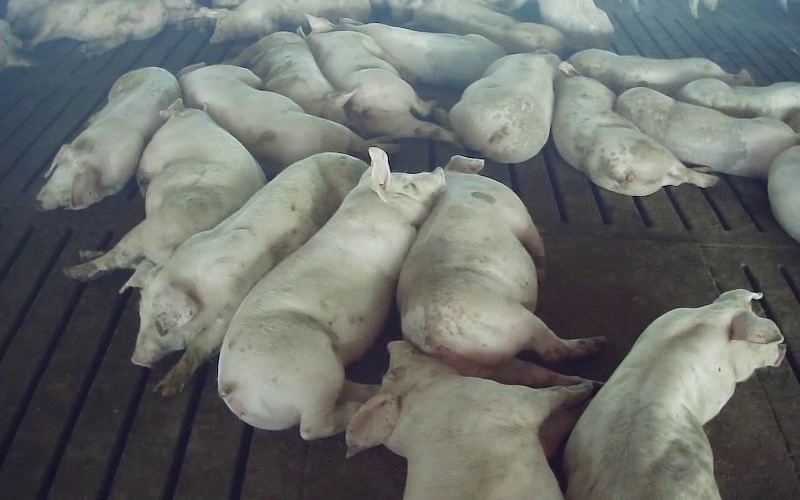pig: (218, 148, 444, 439), (397, 157, 603, 386), (564, 289, 785, 499), (347, 341, 592, 499), (65, 99, 265, 280), (179, 63, 398, 177), (553, 62, 717, 195), (36, 67, 180, 209), (306, 17, 455, 142), (615, 87, 799, 177), (433, 50, 559, 162), (337, 19, 505, 87), (229, 32, 351, 123), (569, 49, 752, 95), (677, 79, 799, 132)
